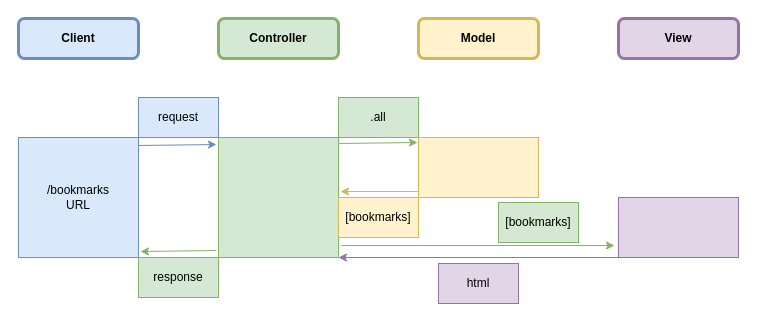
The diagram is 757 pixels wide and 321 high, and some of its shapes have lost their labels. Each missing label, with the centre of its shape:
"app.rb" belongs at [278,197].
"Bookmark.rb" belongs at [478,167].
"bookmarks.erb" belongs at [678,227].
